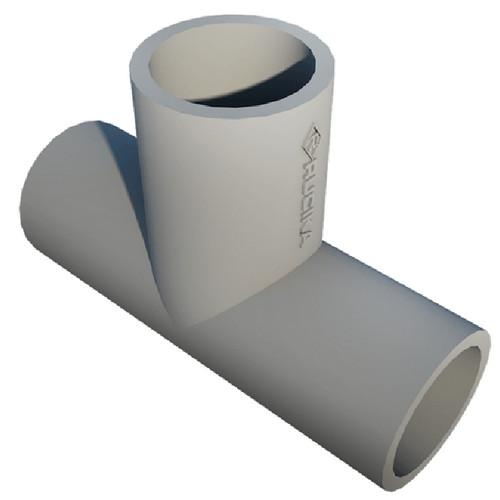PVC: (18, 12, 492, 494)
